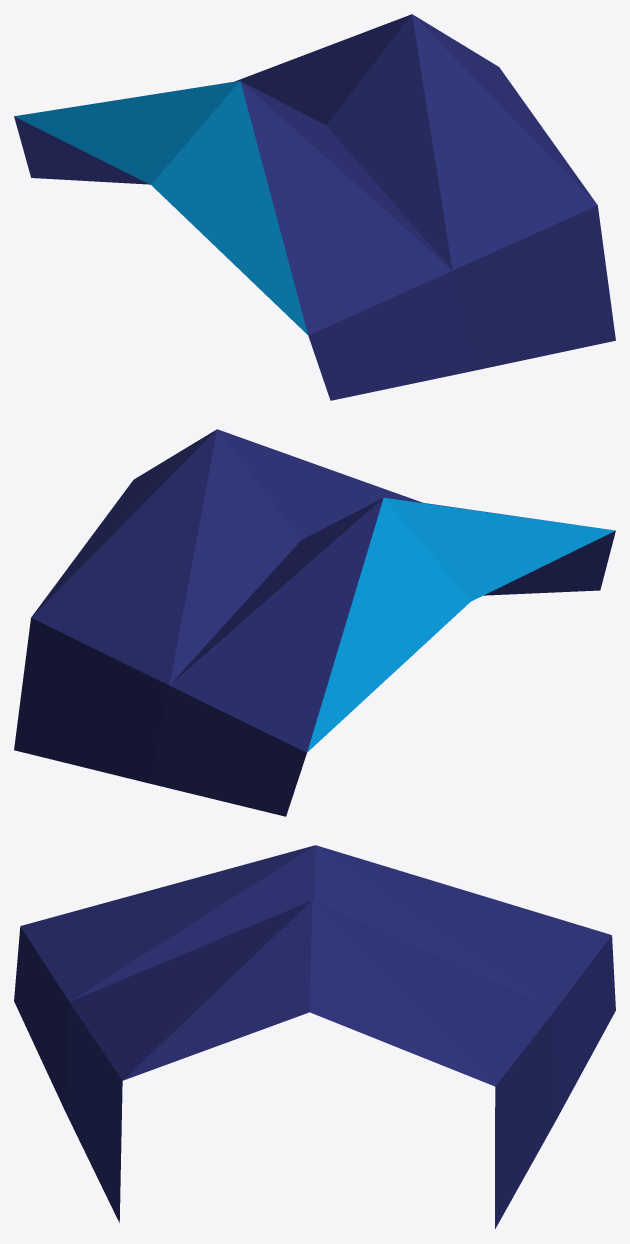
Rendered from debris3.fbx.
3 views of the same model, one above another, from view 1: azimuth 30°, elevation 25°; view 2: azimuth 150°, elevation 25°; view 3: azimuth 270°, elevation 25° (orthographic). The views are drawn at different scales.
Visible parts, largest first — view 1: bike.002; view 2: bike.002; view 3: bike.002.
Part boxes in pixels (x1,y1,x2,y2): bike.002: (14, 14, 615, 400); bike.002: (14, 429, 615, 816); bike.002: (14, 845, 615, 1228).
Size of the model in its own units: 131 by 95.41 by 188.
